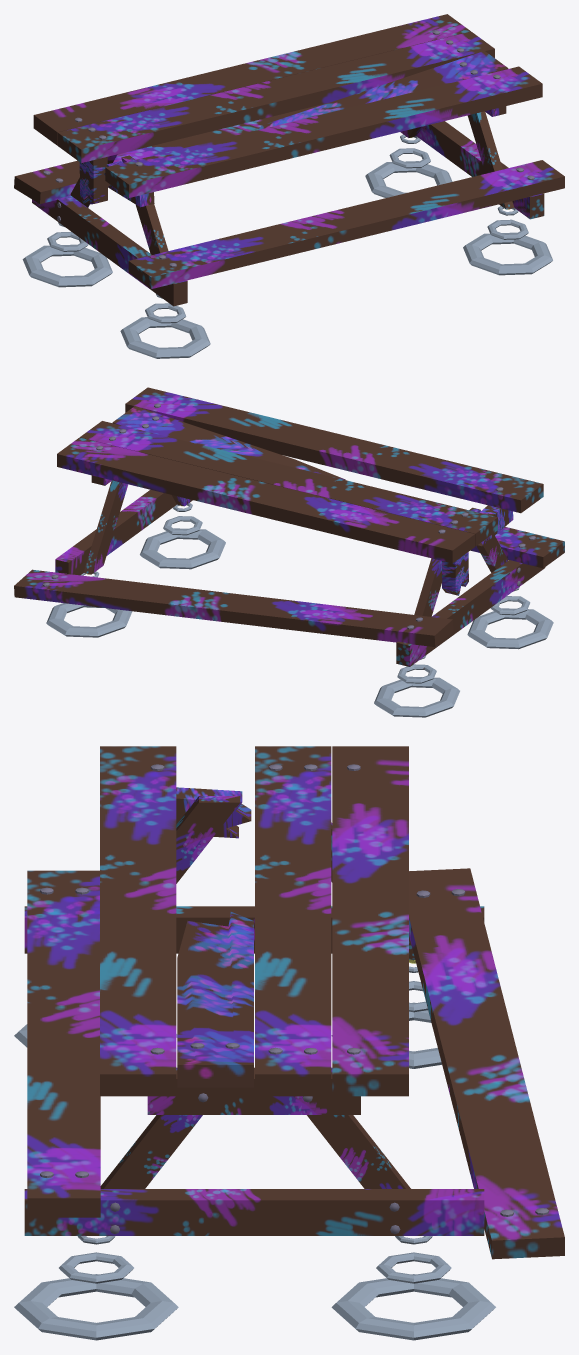
File: mesa.fbx
3 renders of one model, top to bottom at view 1: azimuth 30°, elevation 25°; view 2: azimuth 150°, elevation 25°; view 3: azimuth 270°, elevation 25°, orthographic. The views are drawn at different scales.
Visible parts, largest first — view 1: mesapark; view 2: mesapark; view 3: mesapark.
Part boxes in pixels (x1=…): mesapark: x1=14, y1=14, x2=564, y2=358; mesapark: x1=14, y1=387, x2=564, y2=717; mesapark: x1=14, y1=746, x2=564, y2=1340.
Size of the model in its own units: 200 by 75.98 by 140.
